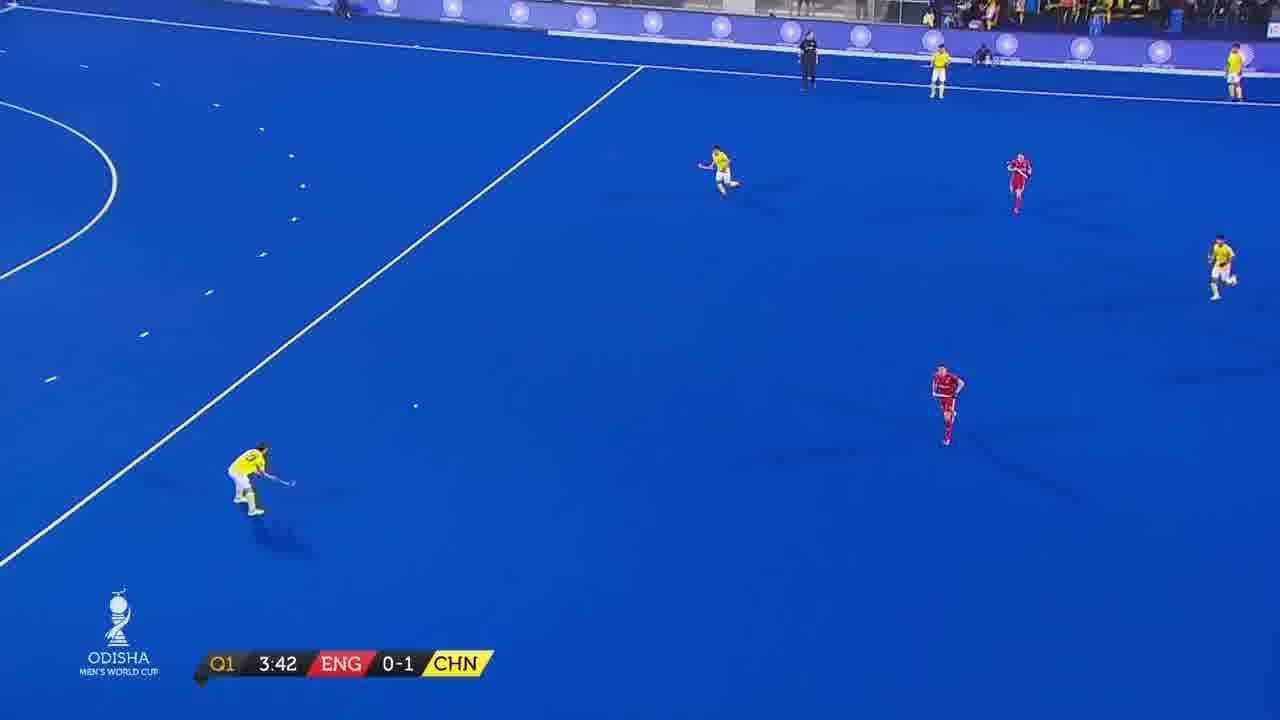ball: (412, 401, 424, 412)
